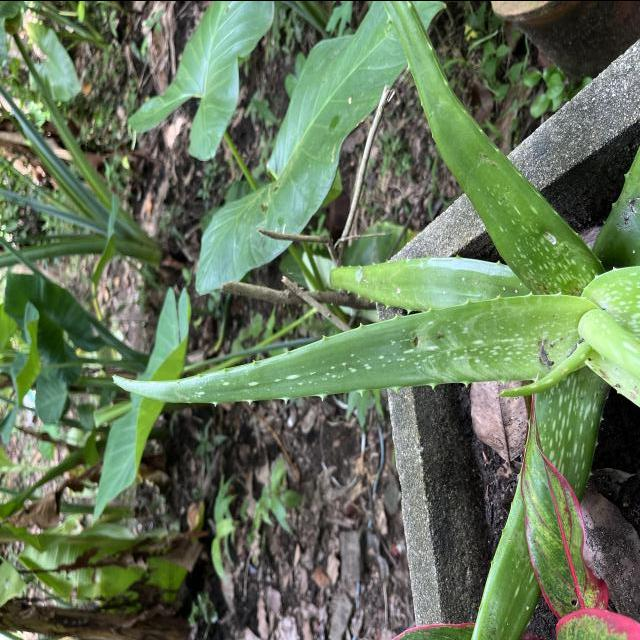Aloe vera: (105, 288, 601, 407)
